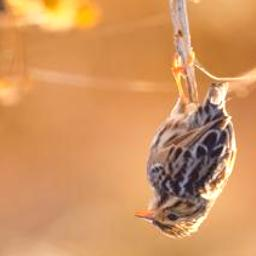Sparrow: (130, 53, 238, 240)
